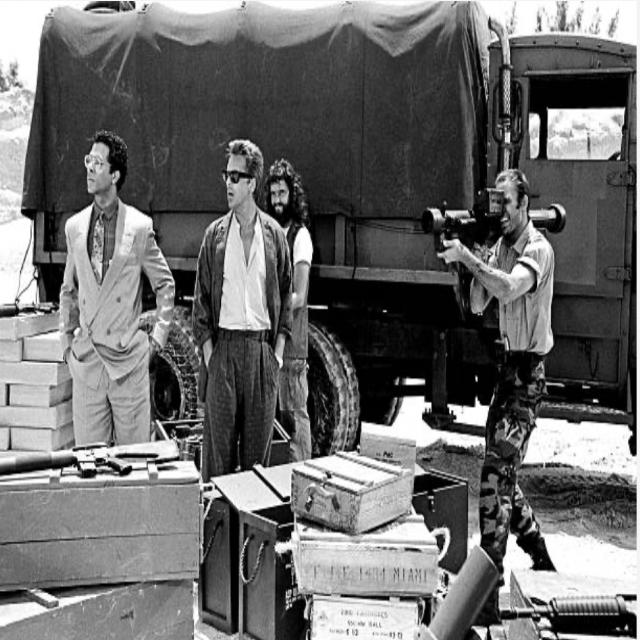bazooka: (426, 199, 570, 249)
